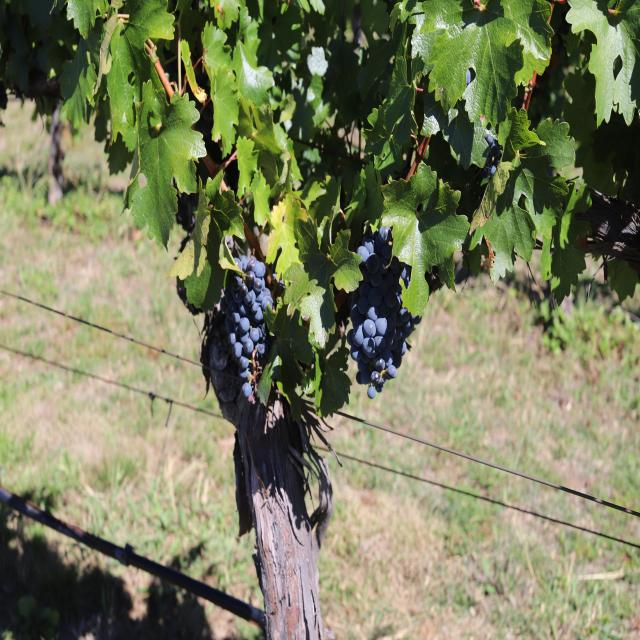grapes: (347, 226, 421, 398), (220, 255, 273, 401)
